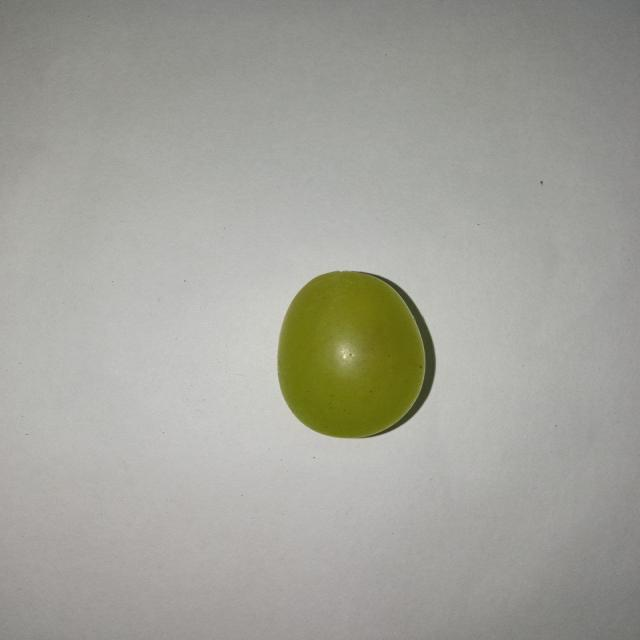fresh_grape: (275, 270, 427, 438)
